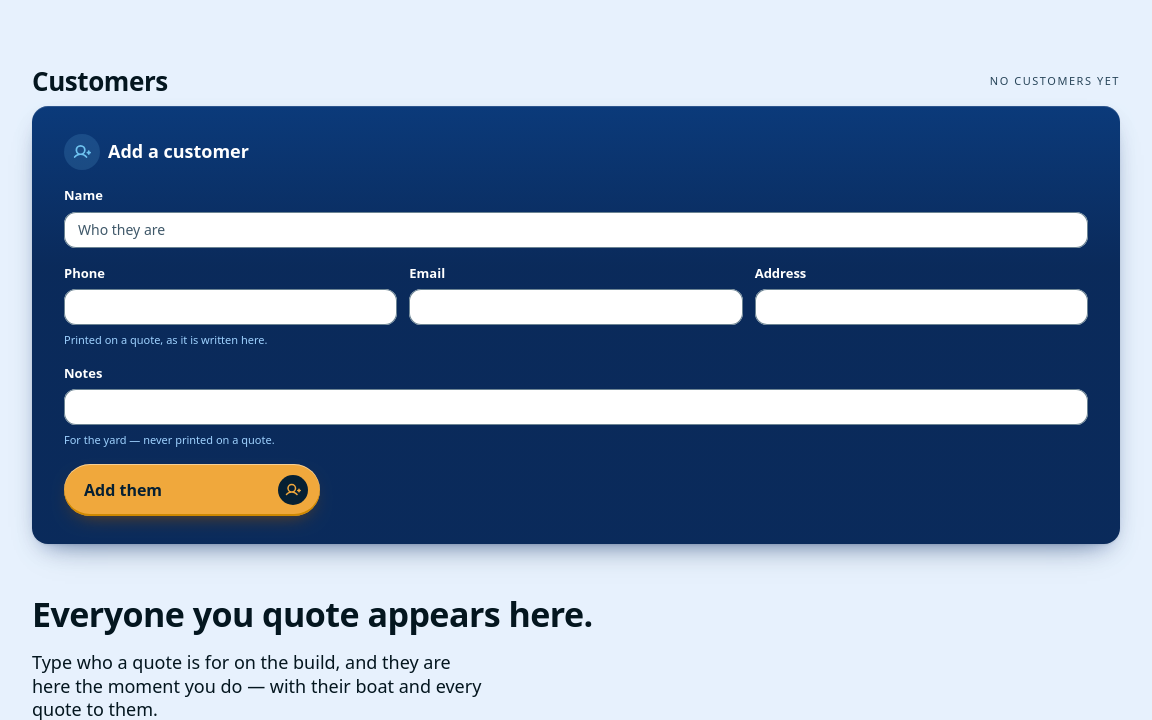
Test: the page is the resting state, and the paper is what prints › shows an absent line as an act and never as a value on the paper
Type "Sarah Jones" into the field labelled "Name" at (576, 230), box [64,212,1088,248]
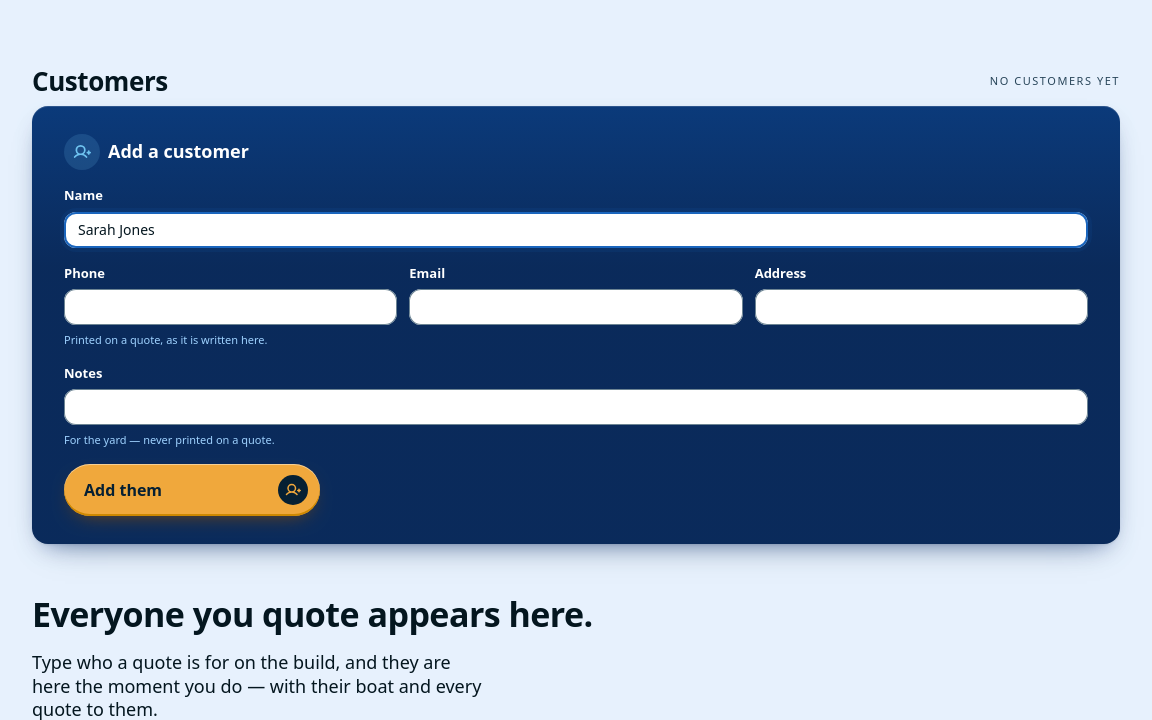
Click the button "Add them" at (192, 490), box [64,464,320,516]
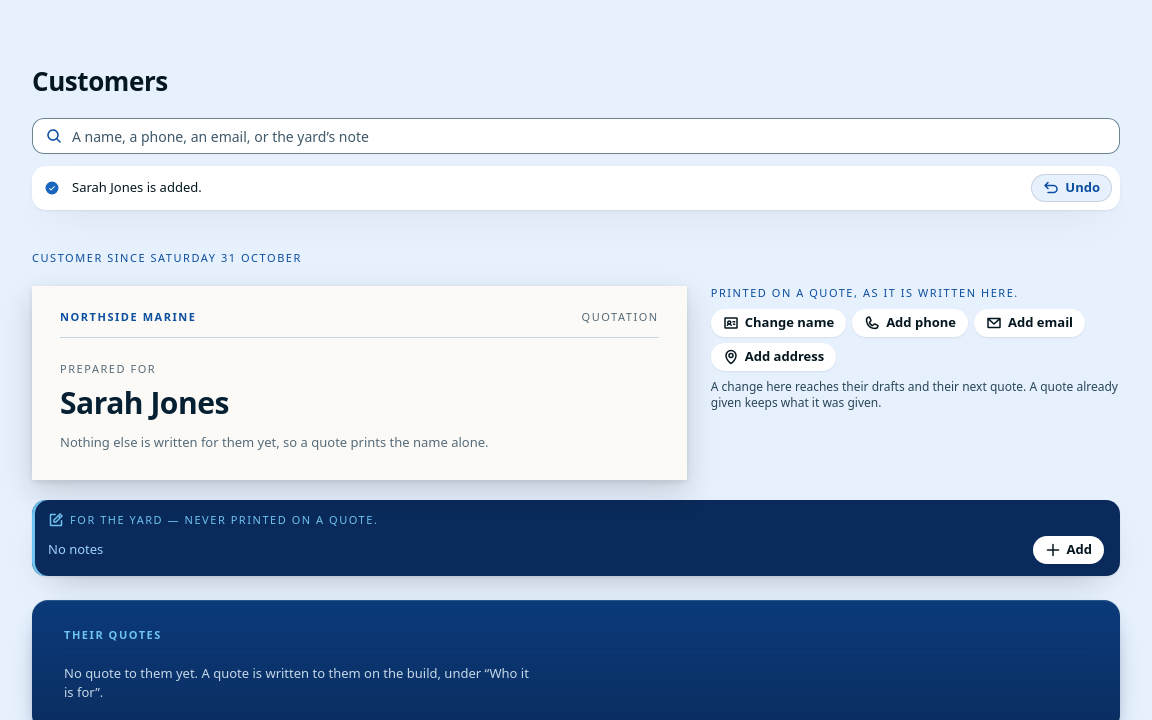
Expected: the element with class "cu-paper" shows "prints the name alone", [60,432,489,450]
Expected: the button "Add phone" is shown, [852,309,968,337]
Expected: the button "Change name" is shown, [711,309,846,337]
